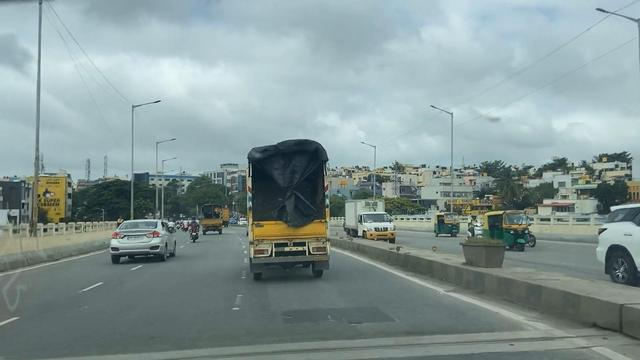HMV: (243, 131, 334, 280)
